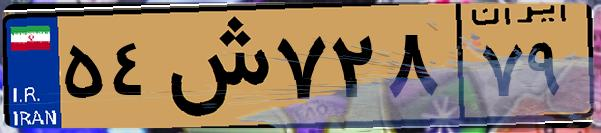2: (330, 28, 385, 110)
4: (110, 28, 158, 98)
5: (57, 26, 110, 100)
7: (270, 28, 330, 110), (475, 38, 525, 113)
8: (385, 28, 445, 110)
9: (525, 38, 570, 115)
ش: (158, 12, 270, 120)
